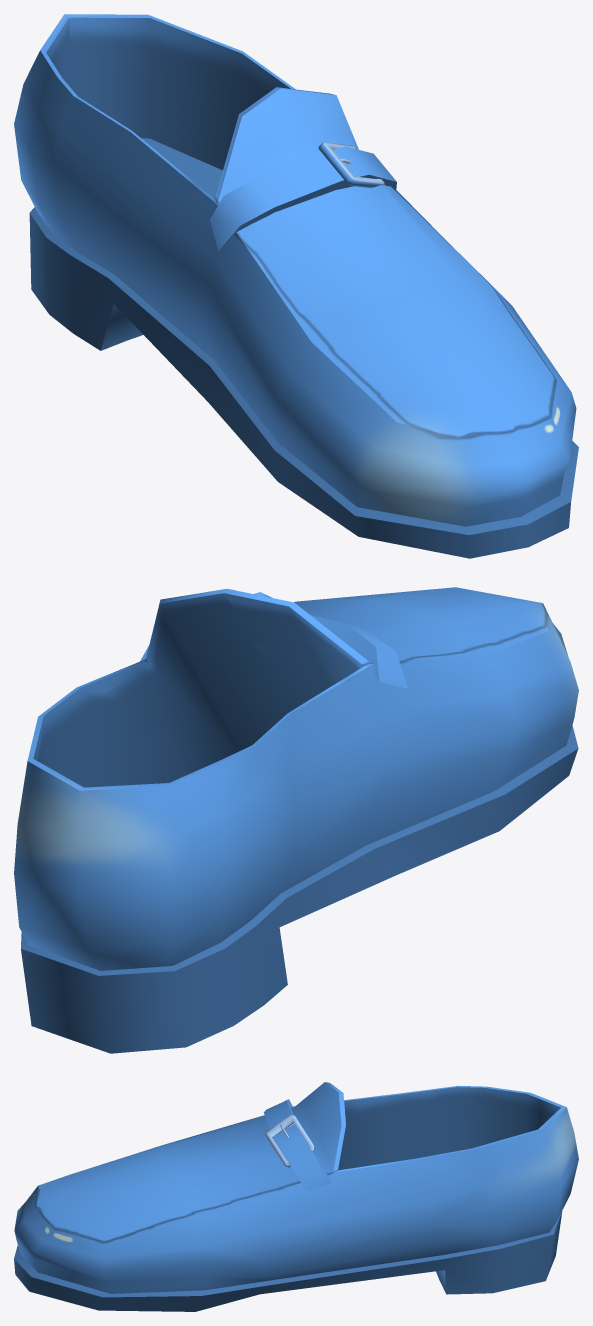
Rendered from 上履きlow.fbx.
3 renders of one model, top to bottom at view 1: azimuth 30°, elevation 25°; view 2: azimuth 150°, elevation 25°; view 3: azimuth 270°, elevation 25°, orthographic. The views are drawn at different scales.
Visible parts, largest first — view 1: Yシャツ.001; view 2: Yシャツ.001; view 3: Yシャツ.001.
Boxes of the visible parts, x1,y1,x2,y2 form: Yシャツ.001: (14,14,578,558); Yシャツ.001: (14,587,578,1053); Yシャツ.001: (14,1082,578,1311).
Size of the model in its own units: 5.89 by 6.05 by 16.9.
